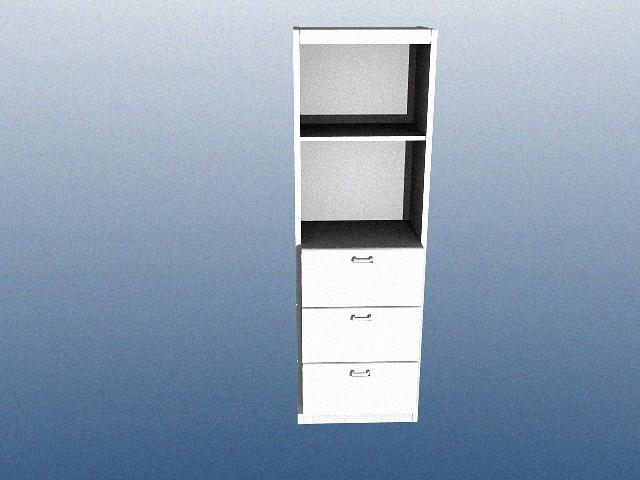cabinet_door: (302, 249, 421, 308), (302, 308, 418, 363), (303, 363, 416, 414)
handle: (348, 251, 376, 266), (346, 366, 374, 381), (347, 311, 375, 325)
